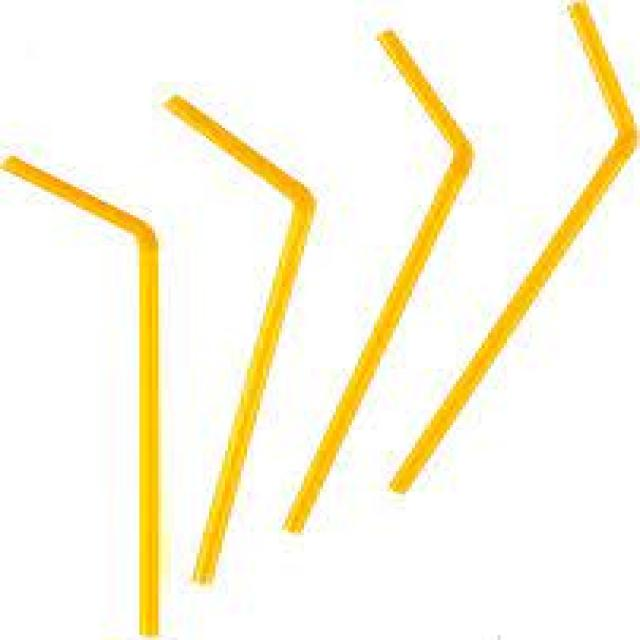straw: (391, 1, 637, 492), (285, 30, 473, 532), (4, 156, 158, 636), (166, 95, 316, 583)
